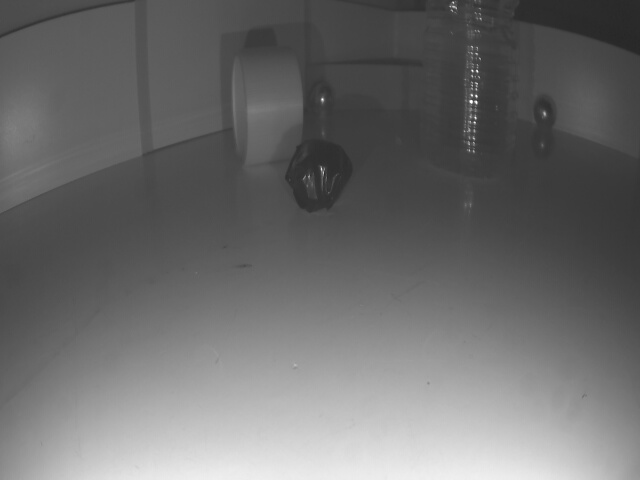Dead: (283, 138, 350, 211)
Live: (531, 95, 560, 128), (312, 81, 336, 110)
Point: (311, 61, 425, 113)
